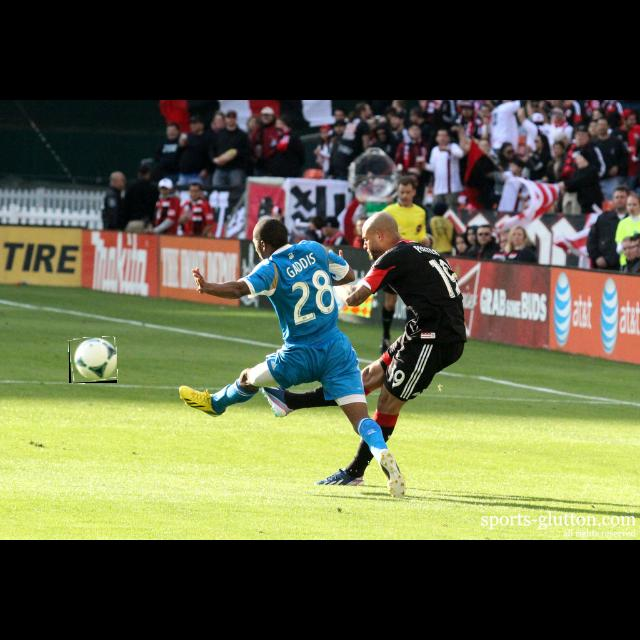Football: (69, 337, 117, 383)
